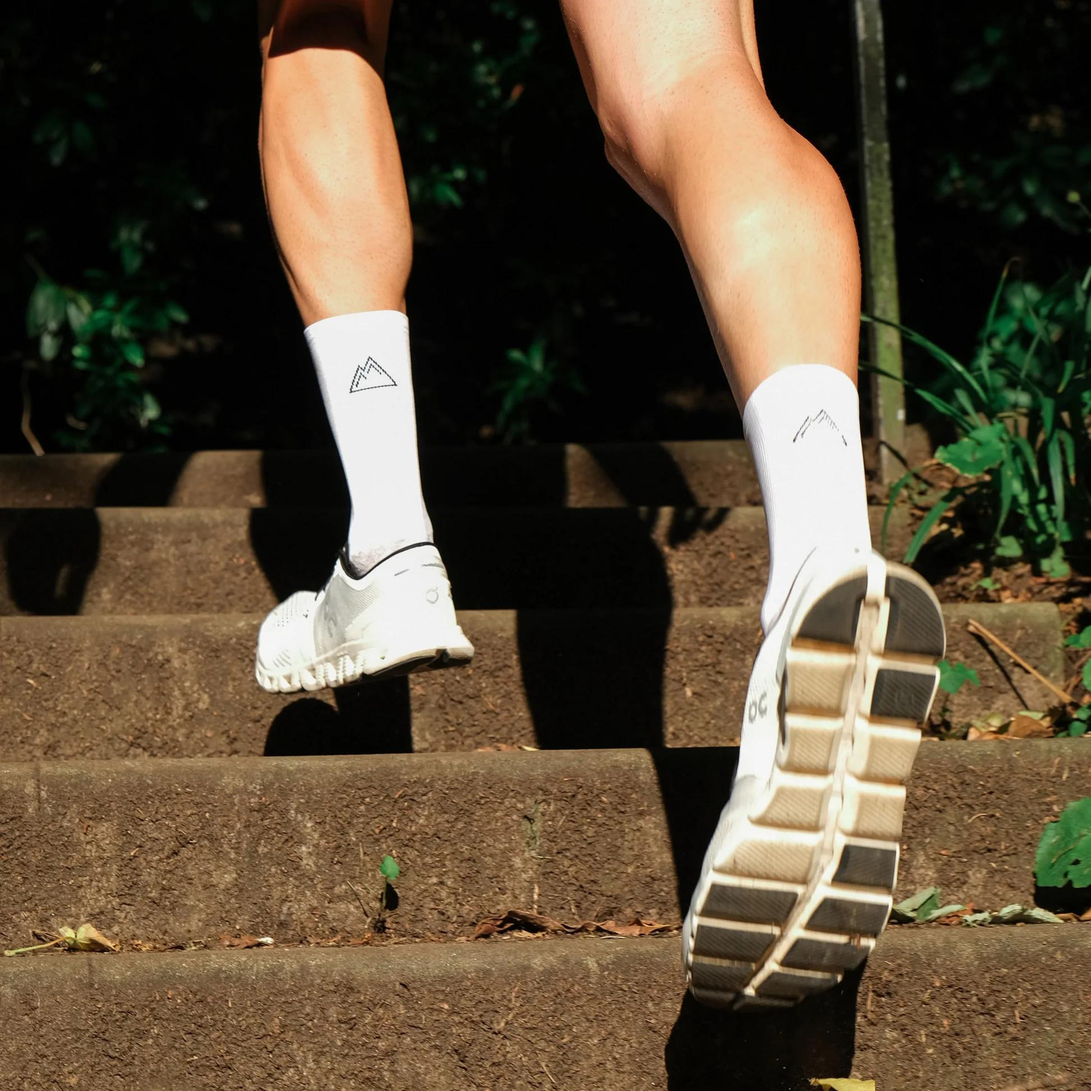OC_logo: (741, 683, 776, 767), (308, 597, 360, 653), (411, 579, 450, 628)
sock logo: (311, 332, 450, 541), (747, 383, 893, 552)
